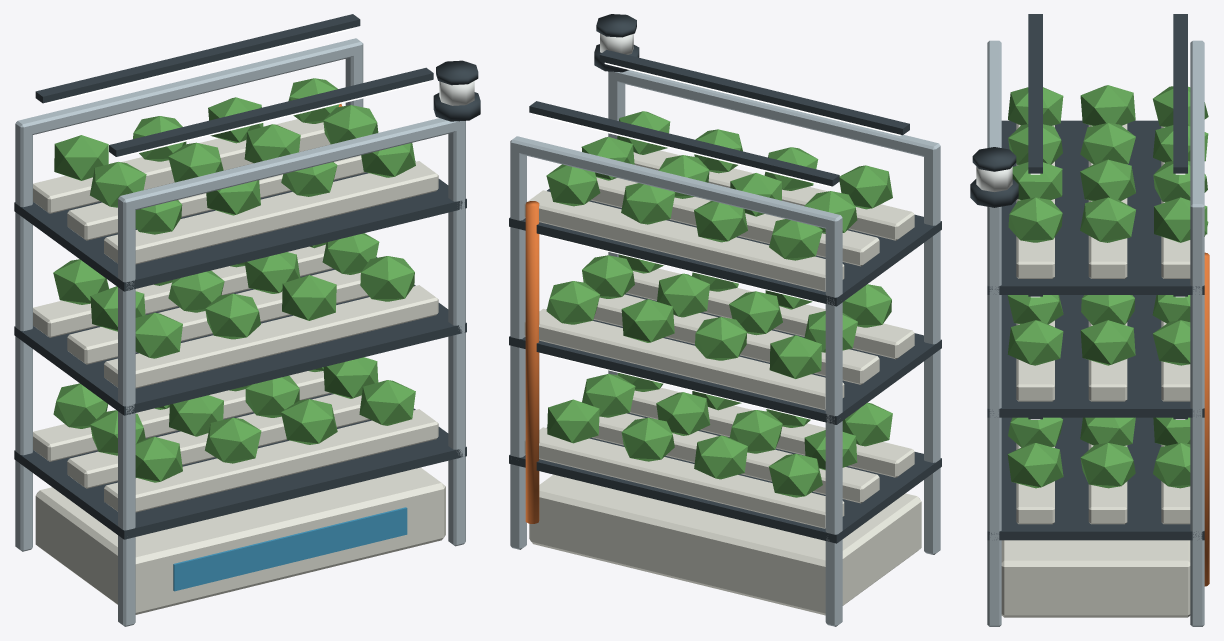
File: hydrorack.glb
3 renders of one model, left to right at view 1: azimuth 30°, elevation 25°; view 2: azimuth 150°, elevation 25°; view 3: azimuth 270°, elevation 25°, orthographic. The views are drawn at different scales.
Parts seen in each view (by area): view 1: Rack, Plants, Lamp; view 2: Rack, Plants, Lamp; view 3: Rack, Plants, Lamp.
Boxes of the visible parts, x1=… form: Rack: x1=14, y1=14, x2=466, y2=626; Plants: x1=53, y1=78, x2=415, y2=482; Lamp: x1=433, y1=60, x2=480, y2=121; Rack: x1=509, y1=50, x2=941, y2=626; Plants: x1=546, y1=111, x2=892, y2=497; Lamp: x1=594, y1=14, x2=639, y2=72; Rack: x1=987, y1=14, x2=1209, y2=626; Plants: x1=1007, y1=85, x2=1208, y2=488; Lamp: x1=970, y1=147, x2=1018, y2=207.
Size of the model in its own units: 1.69 by 2.14 by 0.99.
